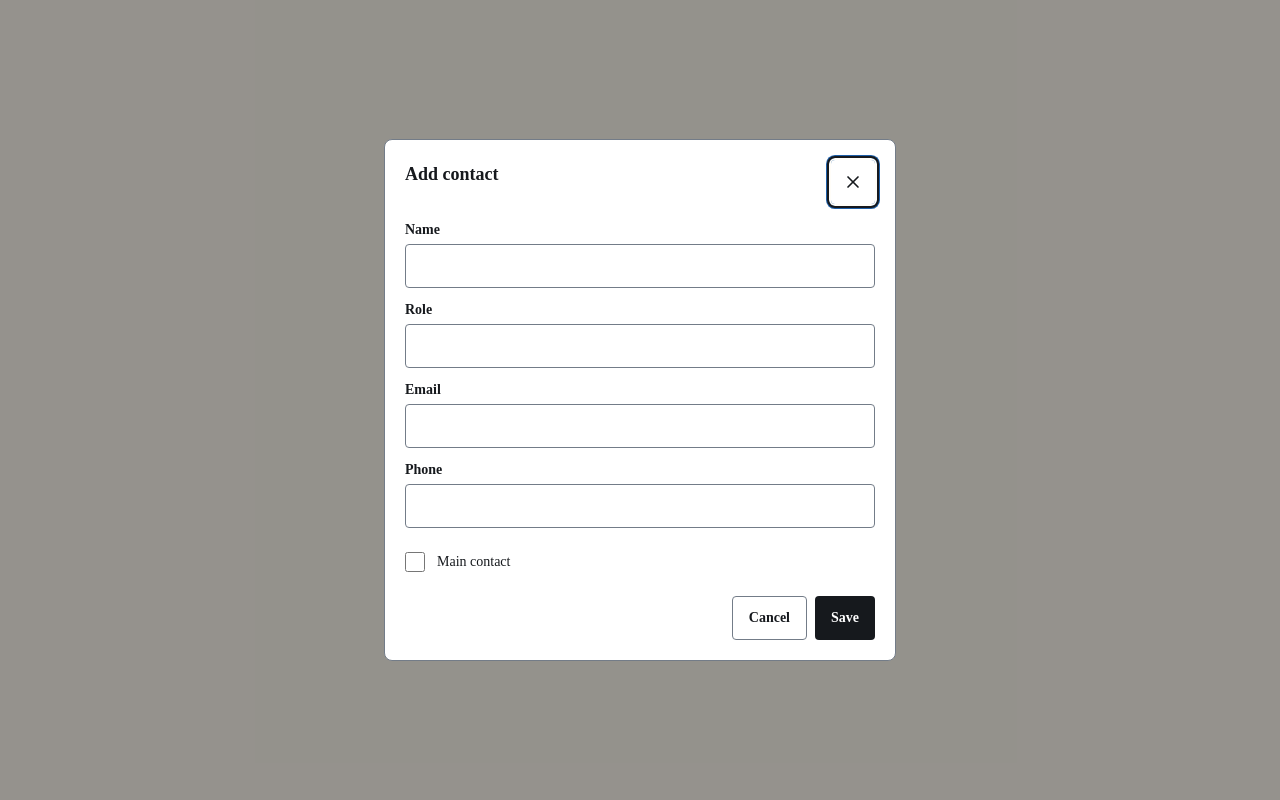
Test: Contact dialog: API field errors on their fields (c769b0c5) › the API's fields.phone marks and focuses the phone field
In the field labelled "Name": (640, 266) x1=405 y1=244 x2=875 y2=288, type "Ana Pop"
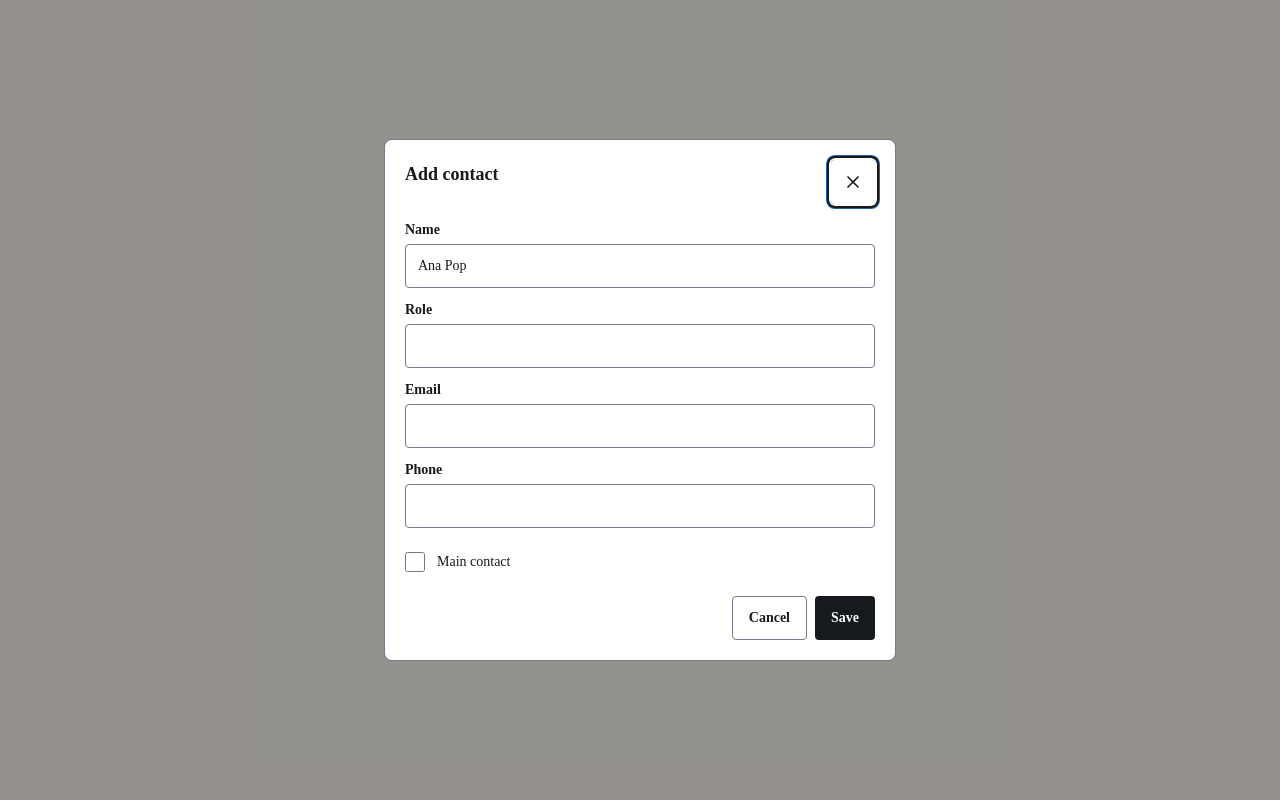
In the field labelled "Phone": (640, 506) x1=405 y1=484 x2=875 y2=528, type "12"
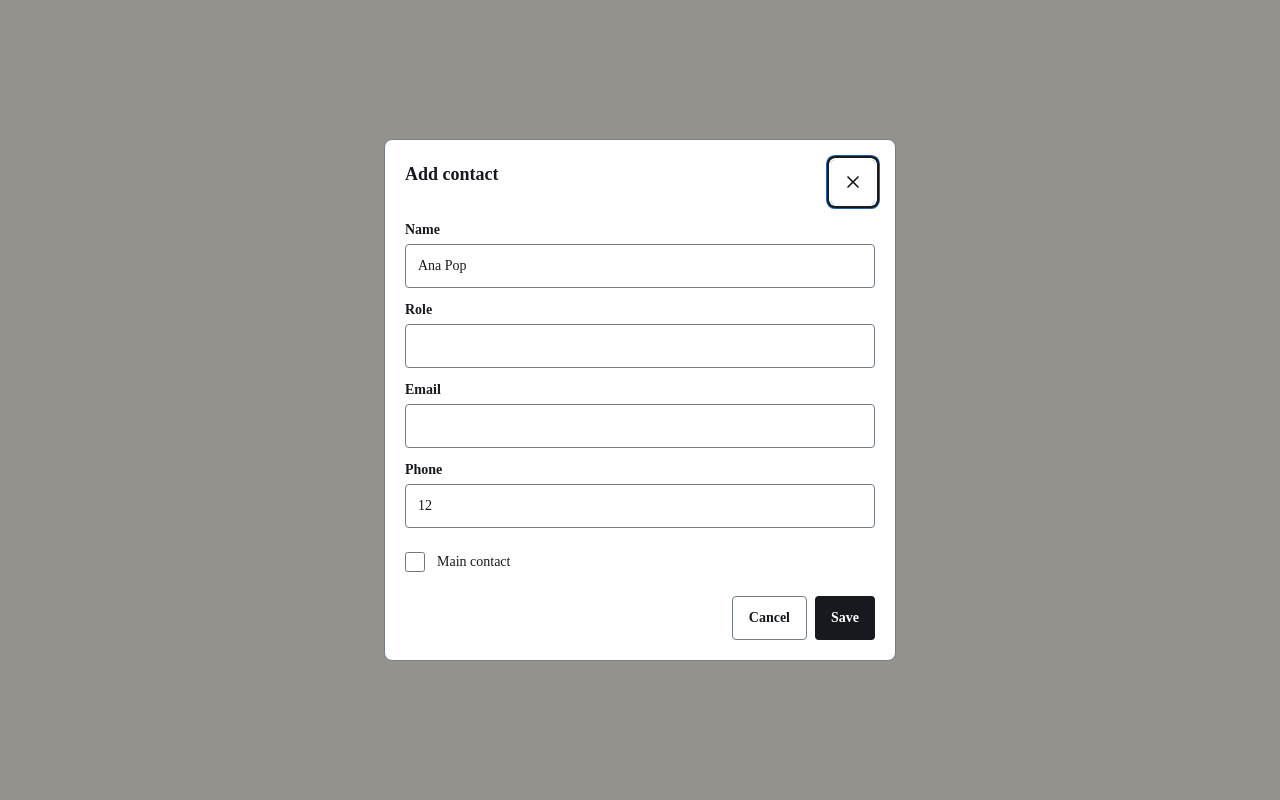
Click the button "Save": click(845, 618) x1=815 y1=596 x2=875 y2=640
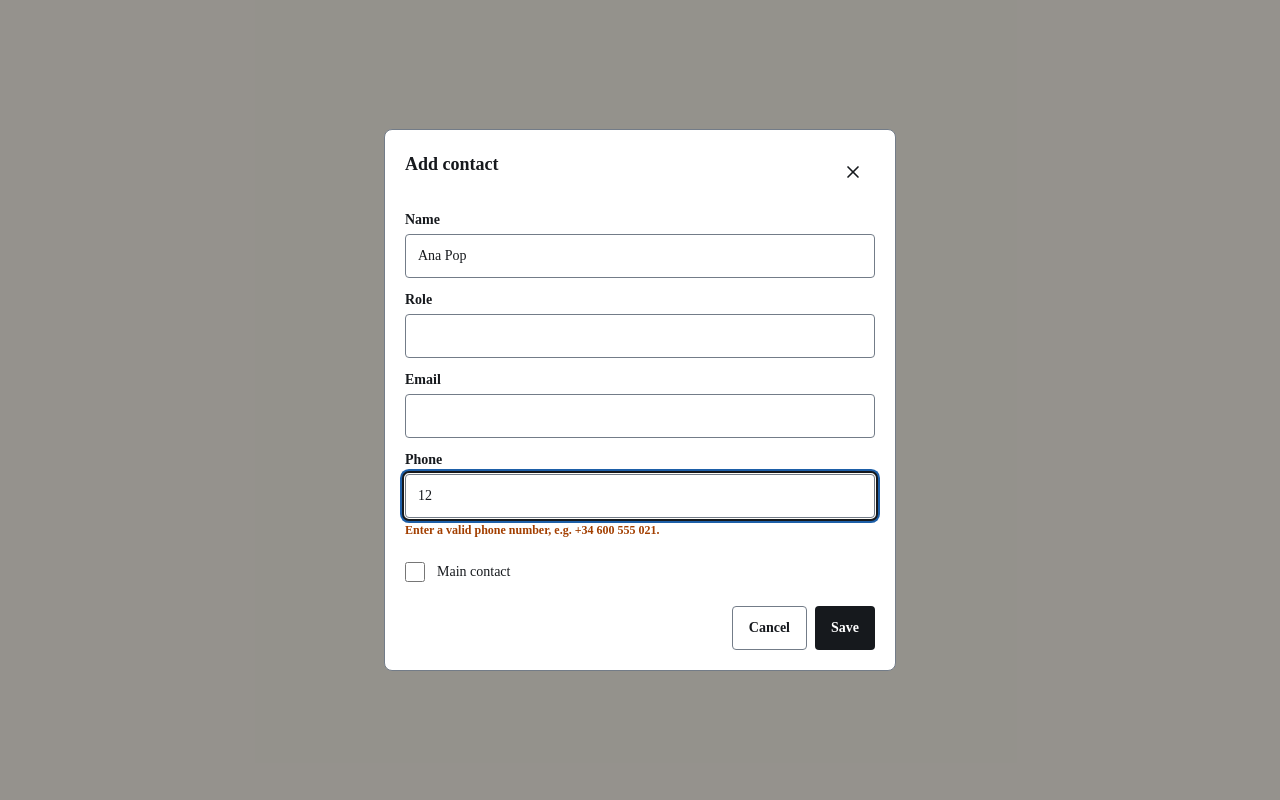
Expected: the text "Enter a valid phone number, e.g. +34 600 555 021." is shown, x1=405 y1=523 x2=660 y2=537
